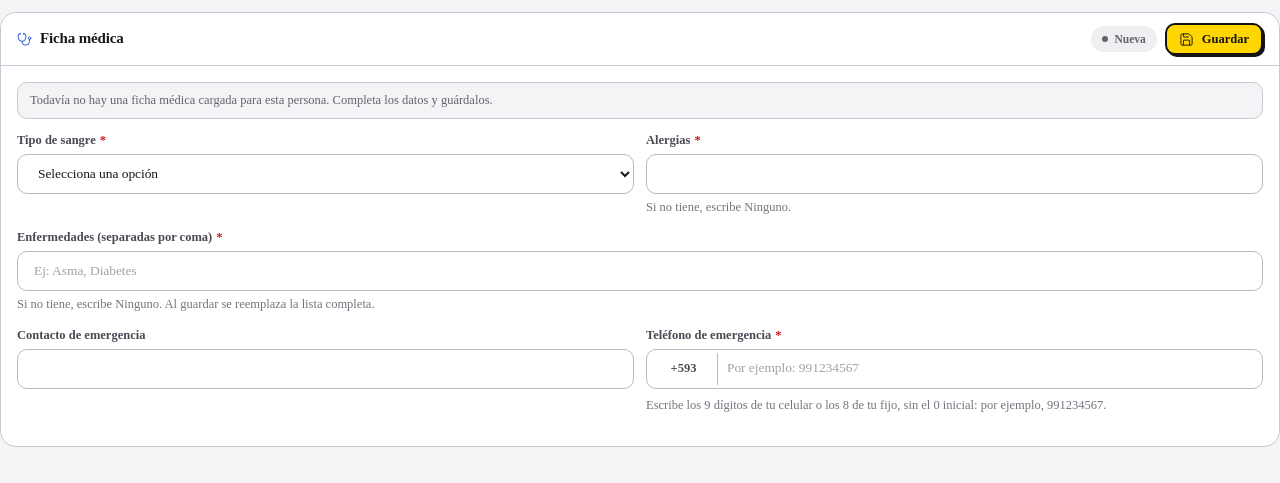
Scenario: MedicalRecordEditor emergency phone (#643) › strips letters from a typed/pasted phone instead of rejecting them
Select "O POSITIVO" in the dropdown labelled "Tipo de sangre" at (326, 174), box x1=17 y1=154 x2=634 y2=194
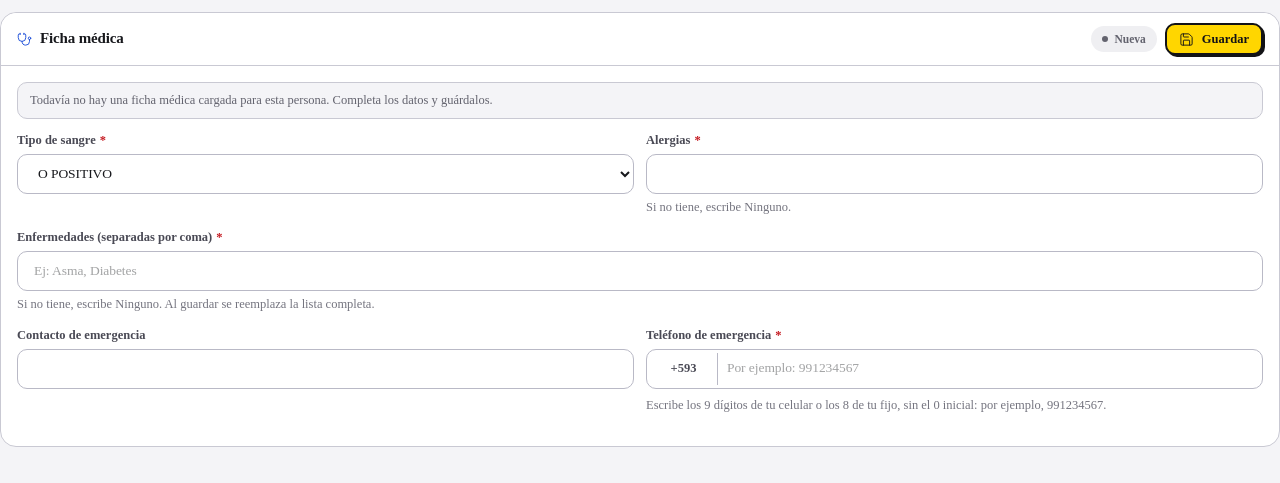
Type "Ninguno" into the field labelled "Alergias" at (954, 174), box x1=646 y1=154 x2=1263 y2=194
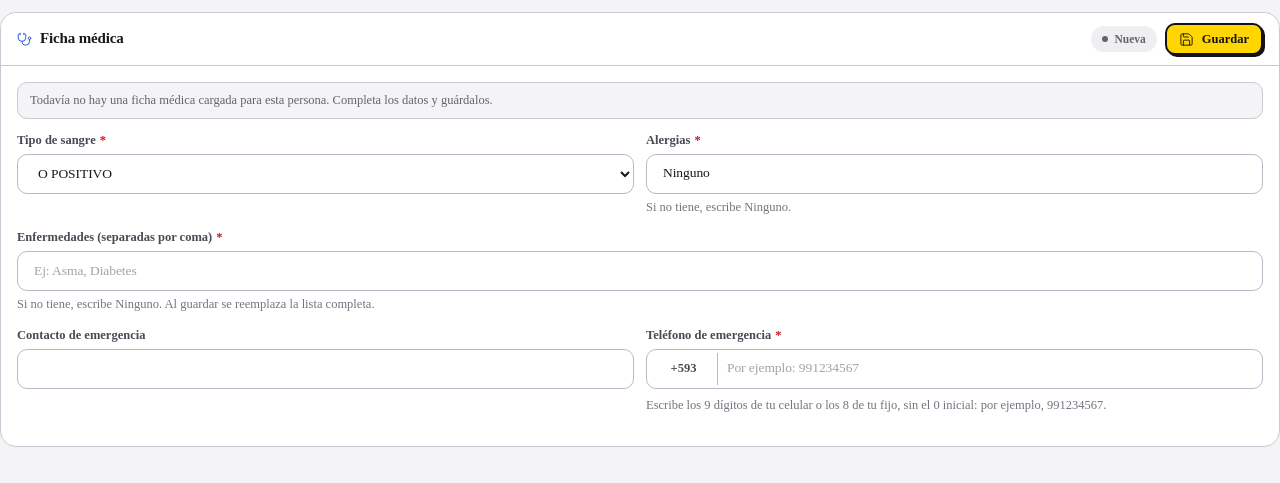
Type "Ninguno" into the field labelled "Enfermedades (separadas por coma)" at (640, 271), box x1=17 y1=251 x2=1263 y2=291
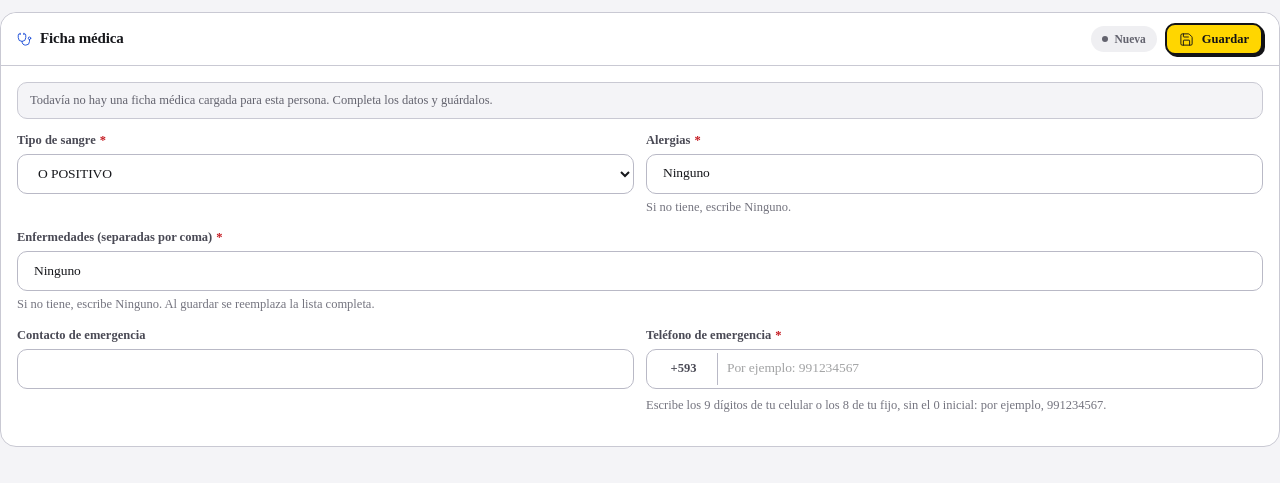
Type "099abc1234" into the field labelled "Teléfono de emergencia*" at (954, 368), box x1=646 y1=348 x2=1263 y2=388
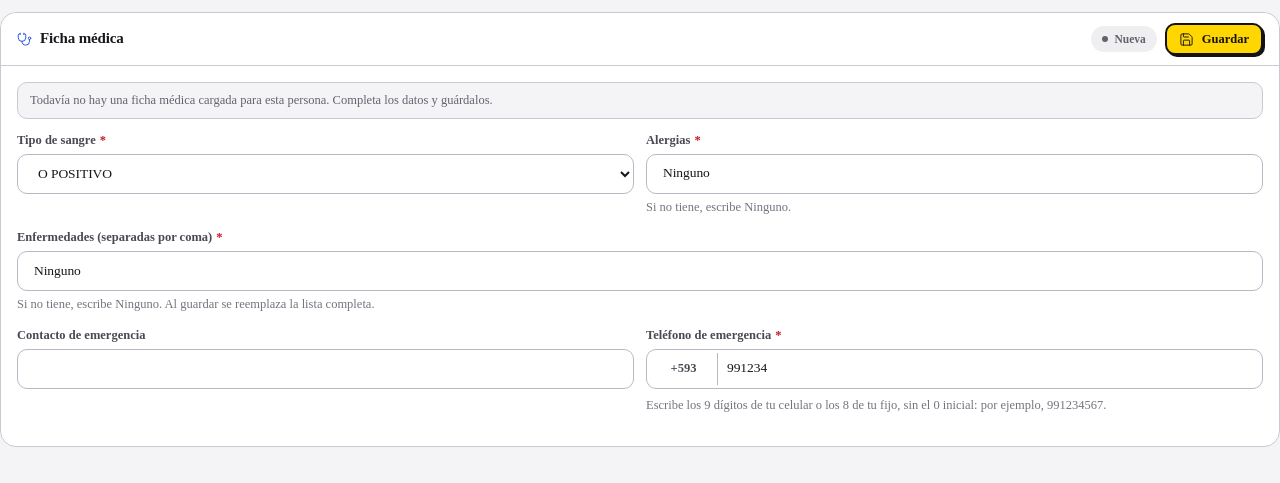
Now the field labelled "Teléfono de emergencia*" holds "991234", box x1=646 y1=348 x2=1263 y2=388
Click the button "Guardar" at (1214, 39), box x1=1165 y1=23 x2=1263 y2=55
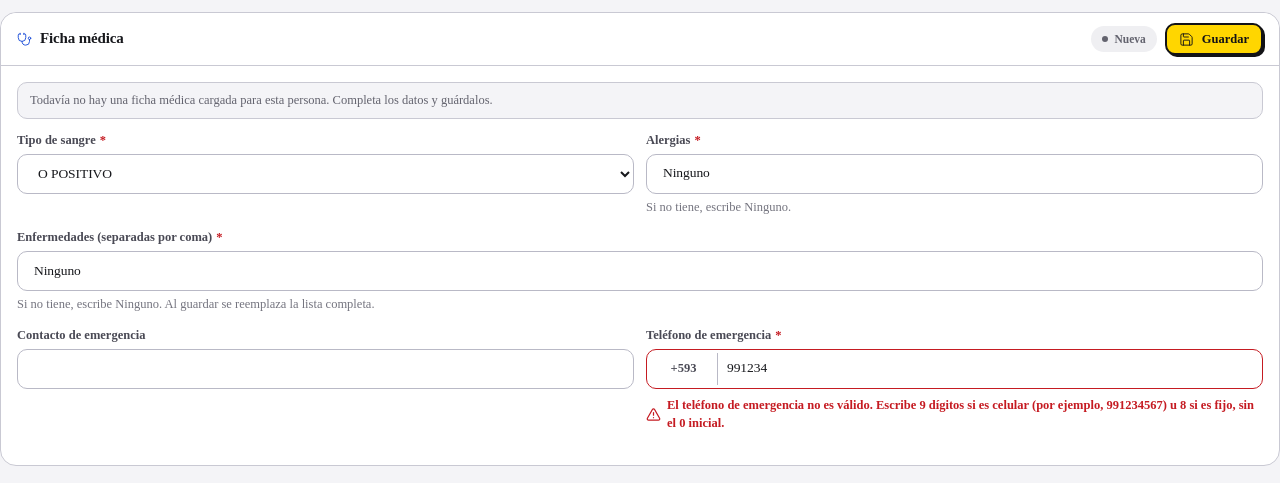
Now the text "El teléfono de emergencia no es válido. Escribe 9 dígitos si es celular (por ejemplo, 991234567) u 8 si es fijo, sin el " is shown, box x1=667 y1=398 x2=1254 y2=430
